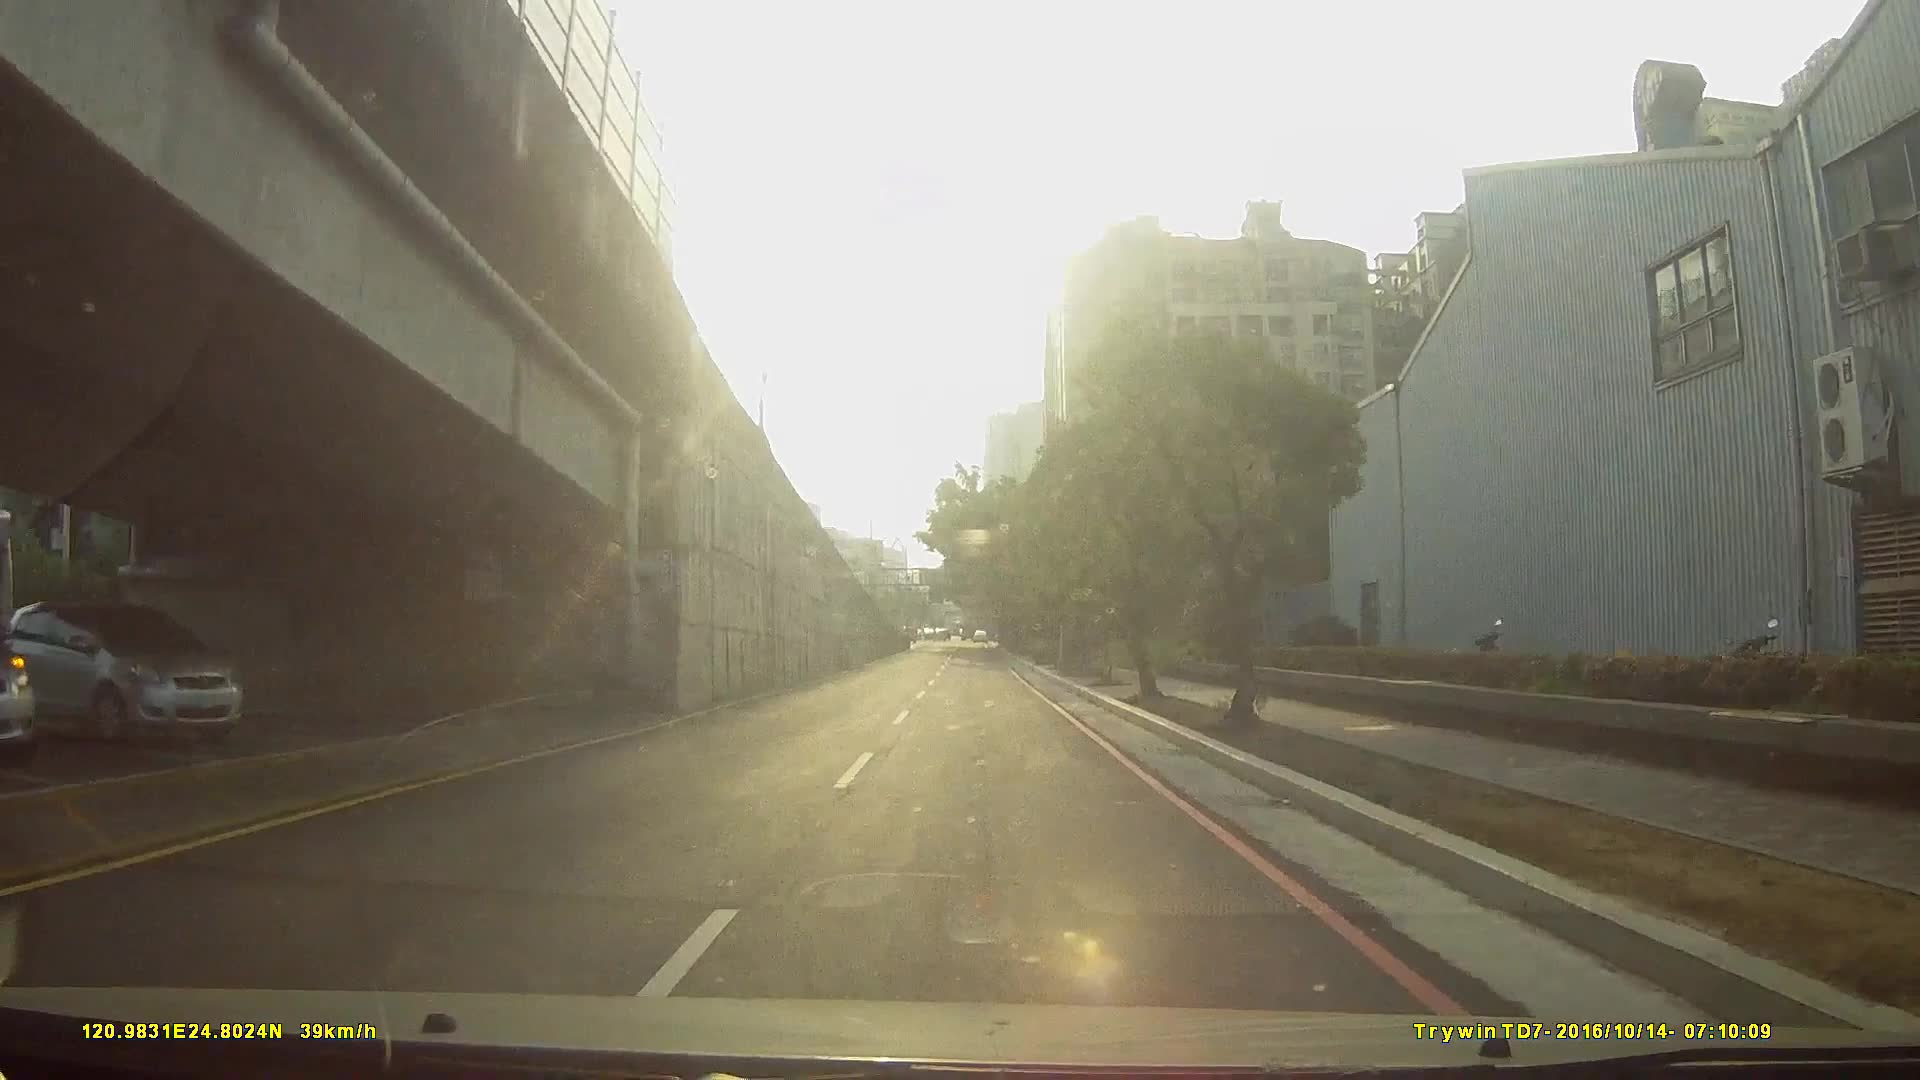vehicle: (3, 597, 247, 753), (1, 622, 44, 756)
